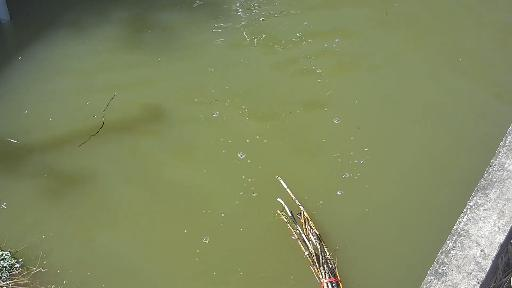twig: (276, 173, 355, 288), (55, 90, 118, 161), (0, 243, 61, 288)
